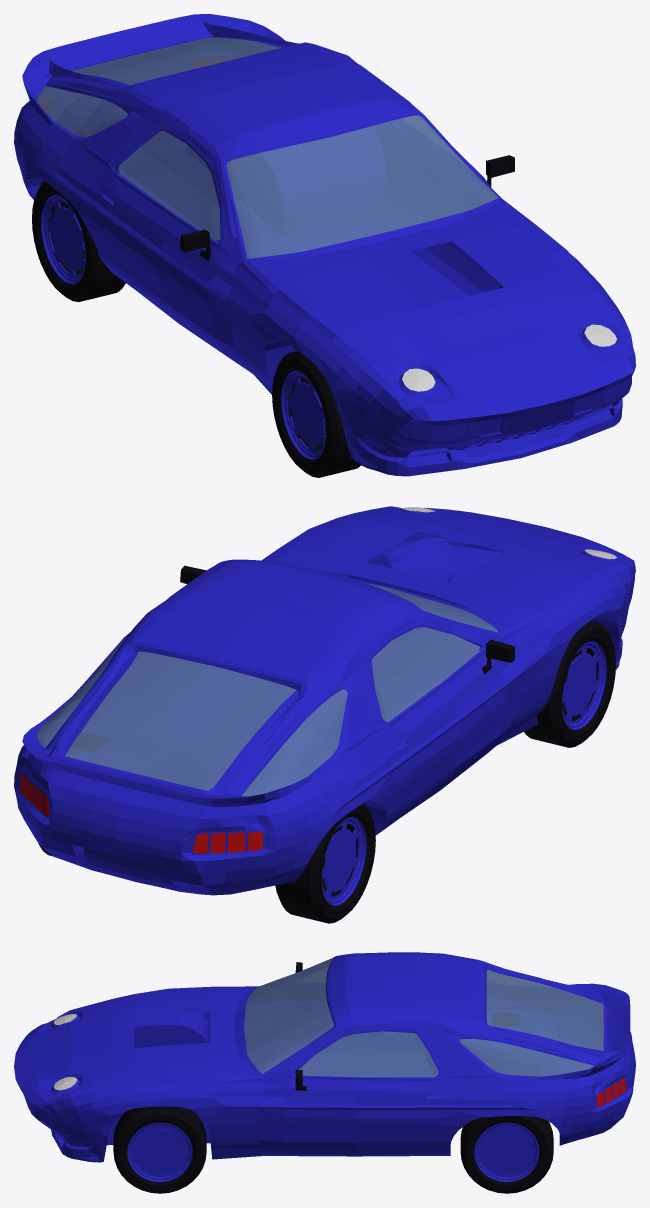
The model's file is porsche.obj.
3 views of the same model, one above another, from view 1: azimuth 30°, elevation 25°; view 2: azimuth 150°, elevation 25°; view 3: azimuth 270°, elevation 25° (orthographic). The views are drawn at different scales.
Visible parts, largest first — view 1: body, glass, tireC, tire, rim, rimC, mirror, frlite; view 2: body, glass, tire, tireC, rimC, rim, relite, mirror; view 3: body, glass, tireB, tireA, rimA, rimB, rim1A, rim1B, relite, frlite, tire.
Boxes of the visible parts, left/top/right/bottom form: body: left=14, top=14, right=635, bottom=476; glass: left=37, top=37, right=498, bottom=258; tireC: left=272, top=351, right=360, bottom=477; tire: left=32, top=180, right=125, bottom=301; rim: left=45, top=197, right=85, bottom=280; rimC: left=285, top=373, right=325, bottom=456; mirror: left=180, top=155, right=514, bottom=260; frlite: left=402, top=324, right=616, bottom=391; body: left=14, top=506, right=635, bottom=895; glass: left=37, top=583, right=498, bottom=796; tire: left=275, top=803, right=375, bottom=923; tireC: left=524, top=621, right=615, bottom=747; rimC: left=562, top=643, right=602, bottom=726; rim: left=321, top=819, right=362, bottom=901; relite: left=20, top=773, right=262, bottom=853; mirror: left=180, top=565, right=514, bottom=673; body: left=14, top=952, right=635, bottom=1162; glass: left=244, top=958, right=603, bottom=1077; tireB: left=113, top=1106, right=206, bottom=1193; tireA: left=460, top=1116, right=553, bottom=1193; rimA: left=476, top=1123, right=537, bottom=1179; rimB: left=129, top=1123, right=190, bottom=1179; rim1A: left=474, top=1122, right=539, bottom=1181; rim1B: left=127, top=1122, right=192, bottom=1181; relite: left=597, top=1010, right=626, bottom=1106; frlite: left=53, top=1014, right=77, bottom=1090; tire: left=492, top=1013, right=519, bottom=1025.
Size of the model in its own units: 50.52 by 33.8 by 114.
